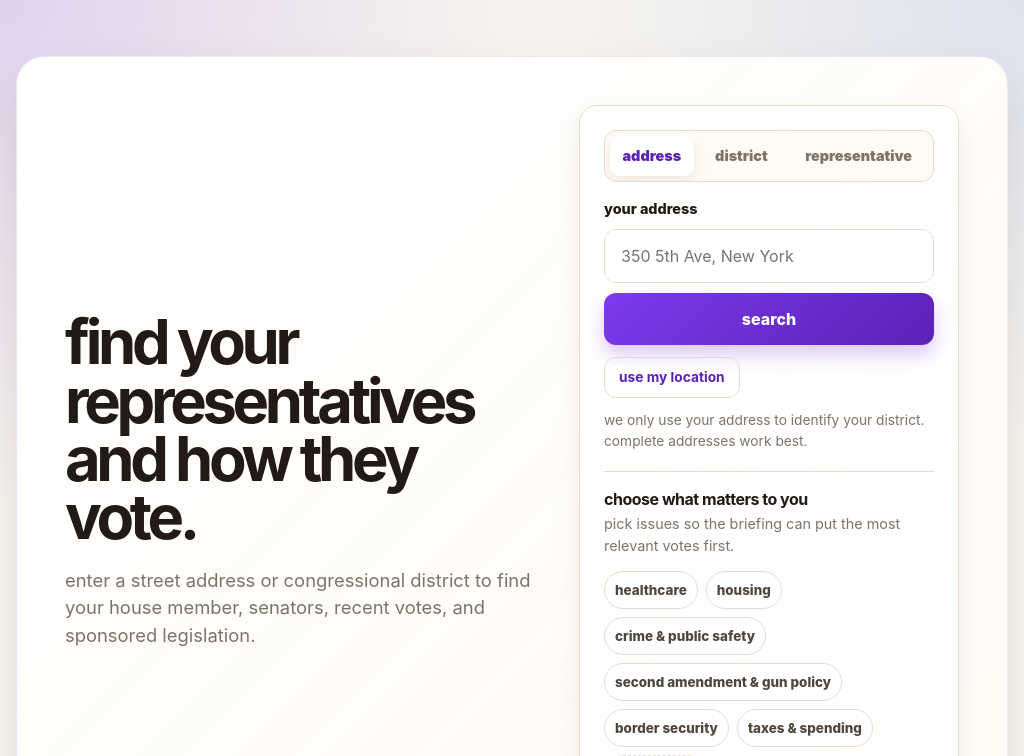
App › shows issue-first briefing cards with match counts and highlighted votes
Click the button "healthcare". click: (651, 590)
box: [604, 570, 698, 609]
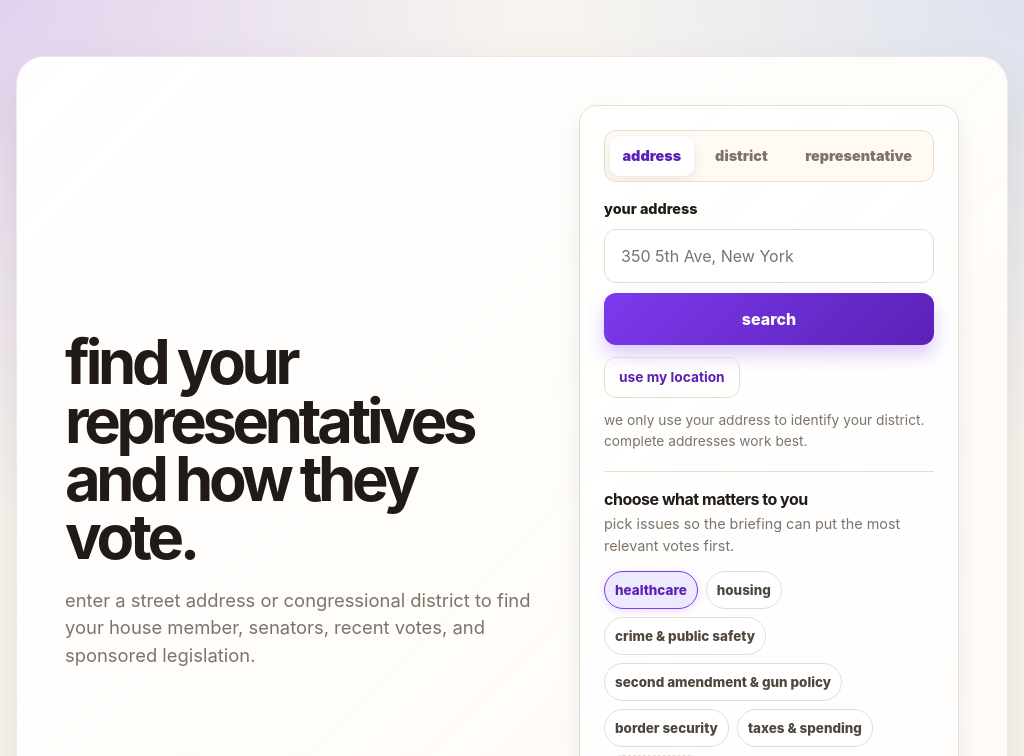
Type "123 Main St Decatur, GA 30030" into the field labelled "your address". click: (769, 256)
box: [604, 229, 934, 283]
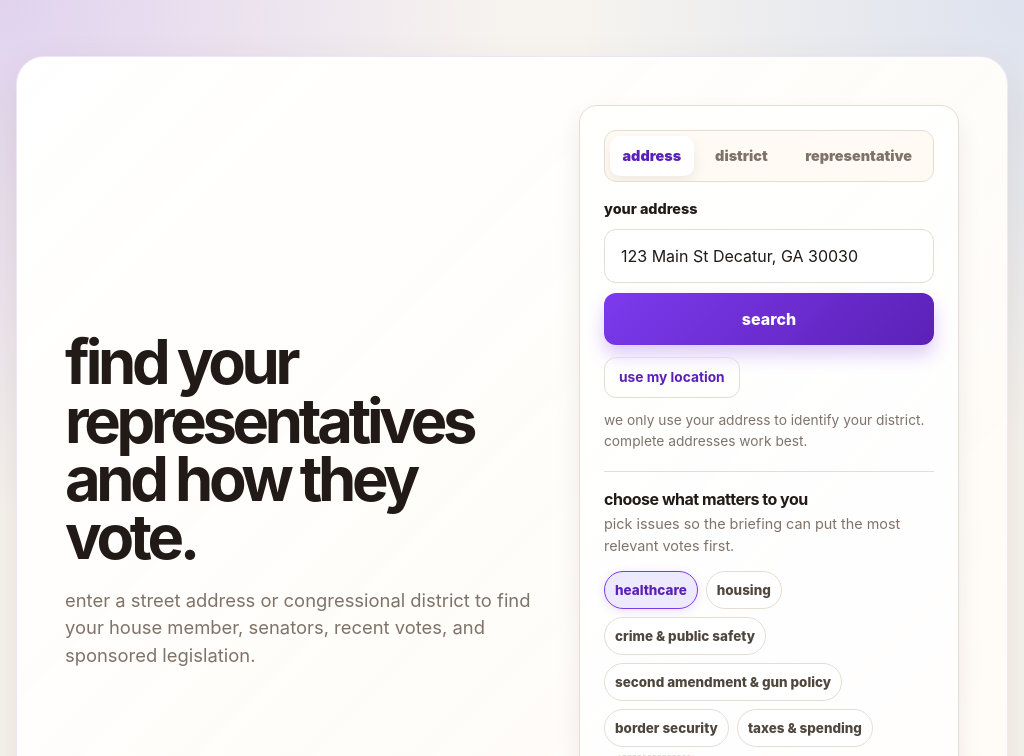
Click the button "search". click: (769, 319)
box: [604, 293, 934, 345]
(page scrolled)
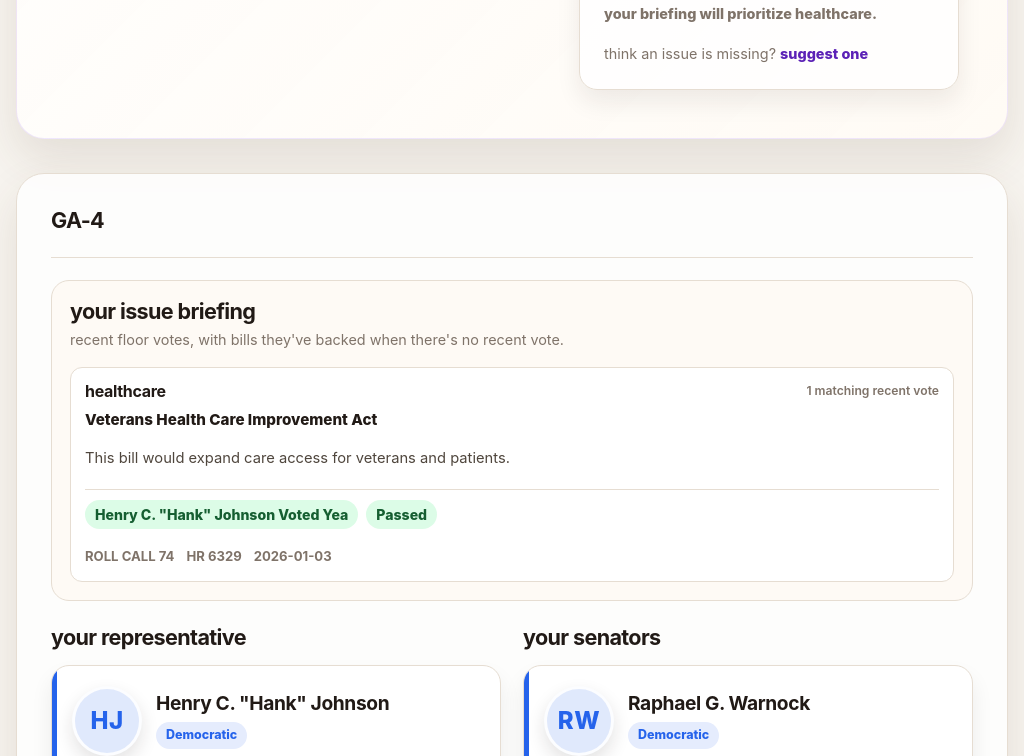
Now the heading "your issue briefing" is shown, box [70, 298, 255, 324]
Now the text "1 matching recent vote" is shown, box [806, 382, 939, 400]
Now the text "Veterans Health Care Improvement Act" is shown, box [85, 410, 377, 429]
